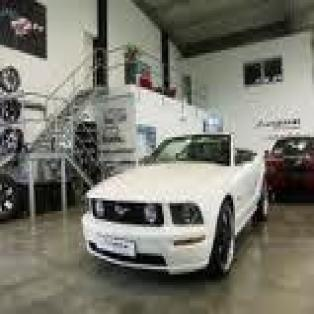Auto: (83, 129, 269, 280)
